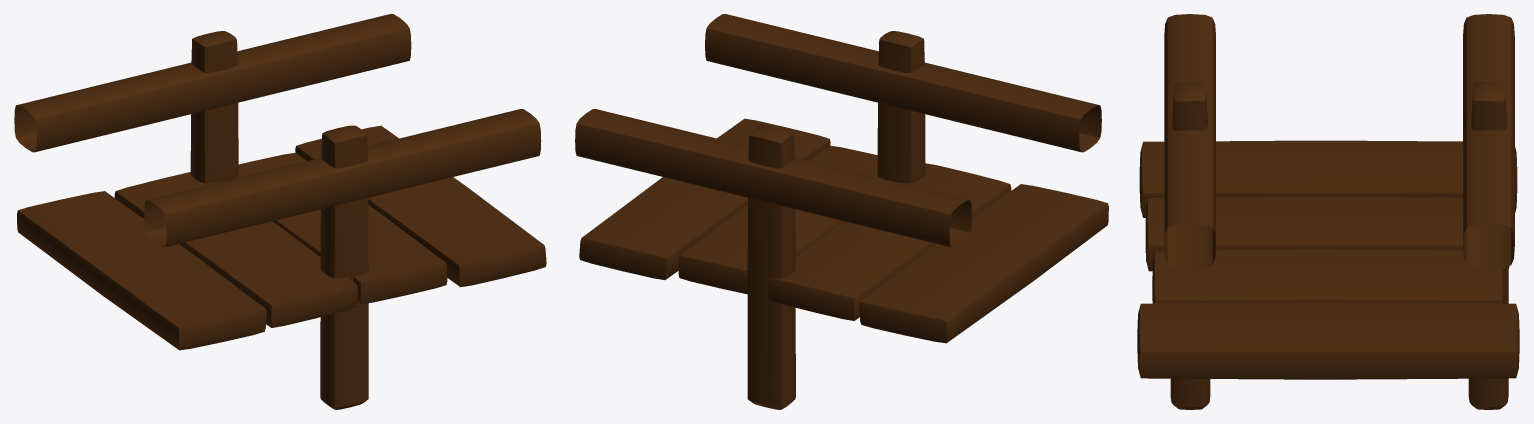
File: Bridge_Modular_Center.obj
The picture shows the model from 3 angles, left to right: view 1: azimuth 30°, elevation 25°; view 2: azimuth 150°, elevation 25°; view 3: azimuth 270°, elevation 25°; orthographic projection. The views are drawn at different scales.
Parts seen in each view (by area): view 1: Bridge_Modular_Center_Cube.054; view 2: Bridge_Modular_Center_Cube.054; view 3: Bridge_Modular_Center_Cube.054.
Boxes of the visible parts, x1,y1,x2,y2 form: Bridge_Modular_Center_Cube.054: (14,14,546,409); Bridge_Modular_Center_Cube.054: (575,14,1108,409); Bridge_Modular_Center_Cube.054: (1137,14,1519,409).
Size of the model in its own units: 3 by 2.09 by 2.31.
